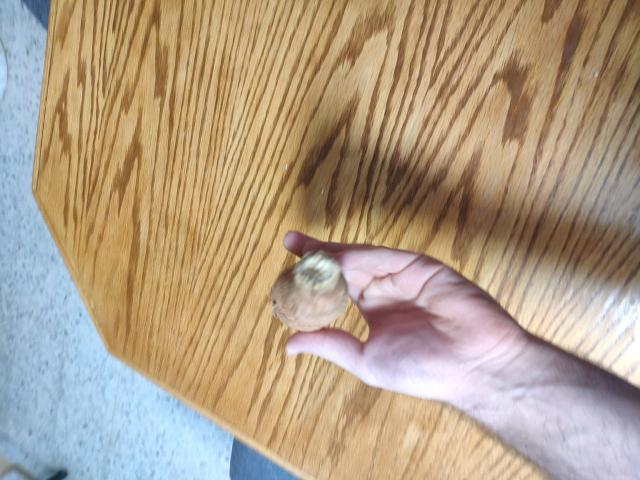sweet_potato: (265, 257, 346, 332)
